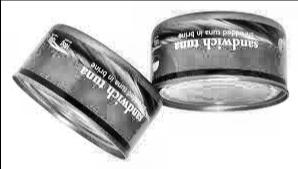can: (8, 20, 162, 164), (140, 8, 290, 116)
